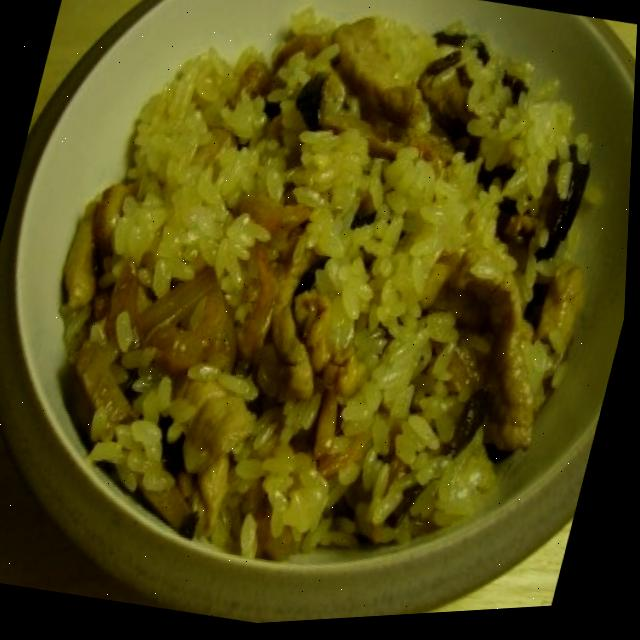米饭主食: (0, 0, 640, 593)
